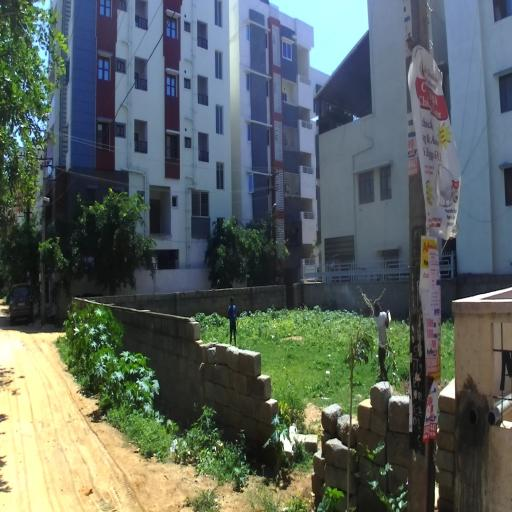street_light_0: (42, 196, 49, 220)
